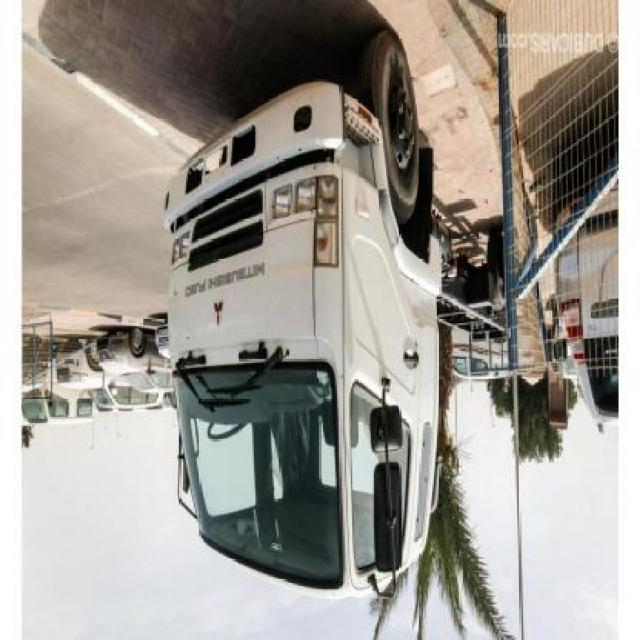truck: (165, 34, 508, 611)
